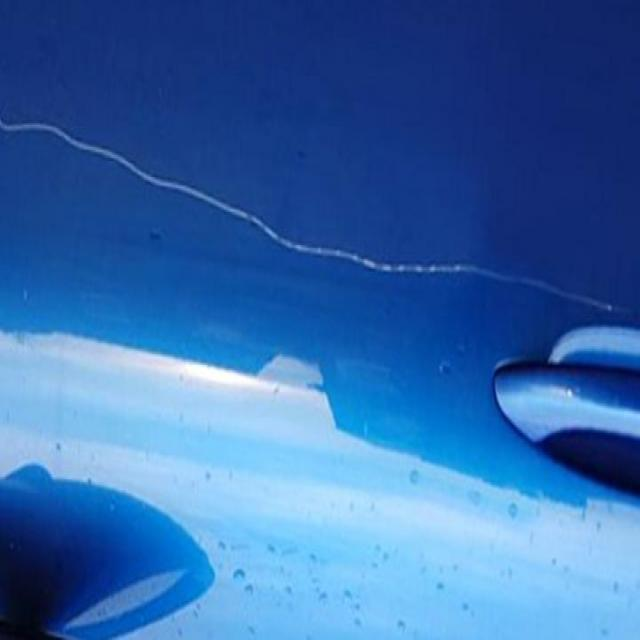scratch: (8, 102, 636, 325)
